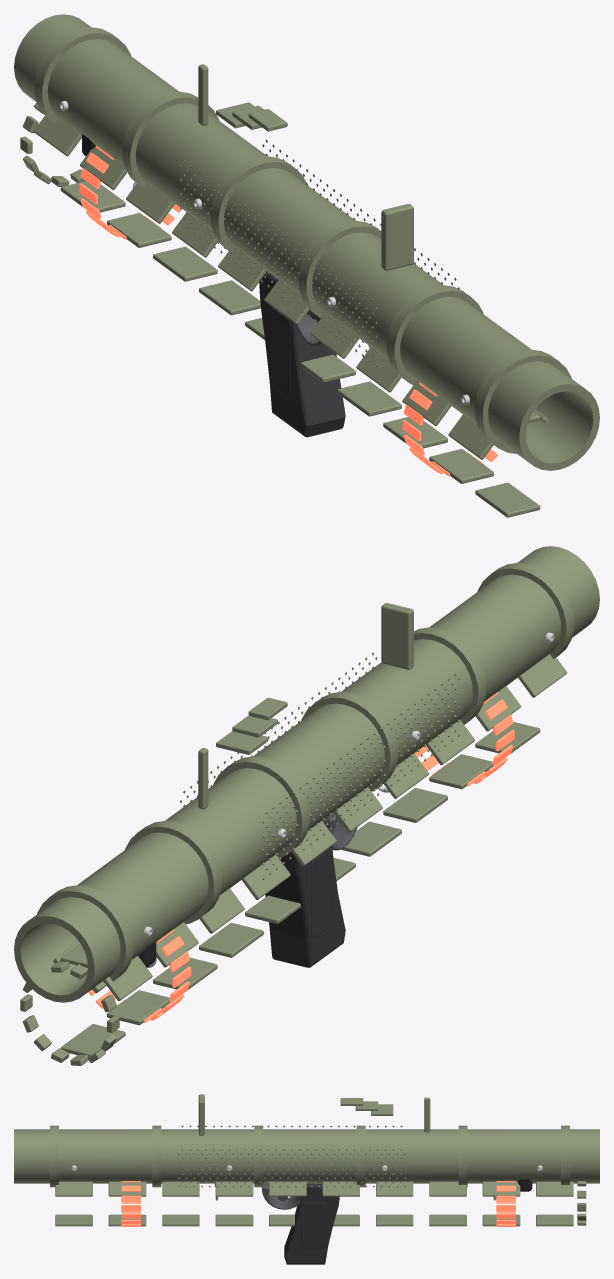
The model's file is mega-weapon-pack-disposable-launcher-d7ea5880__33350.glb.
3 renders of one model, top to bottom at view 1: azimuth 30°, elevation 25°; view 2: azimuth 150°, elevation 25°; view 3: azimuth 270°, elevation 25°, orthographic. The views are drawn at different scales.
Visible parts, largest first — view 1: disposable-launcher; view 2: disposable-launcher; view 3: disposable-launcher.
Boxes of the visible parts, x1=… form: disposable-launcher: x1=14, y1=14, x2=599, y2=517; disposable-launcher: x1=14, y1=546, x2=599, y2=1065; disposable-launcher: x1=14, y1=1094, x2=599, y2=1264.
Bounding box in the file's own units: 0.0856 × 0.2375 × 0.78.
